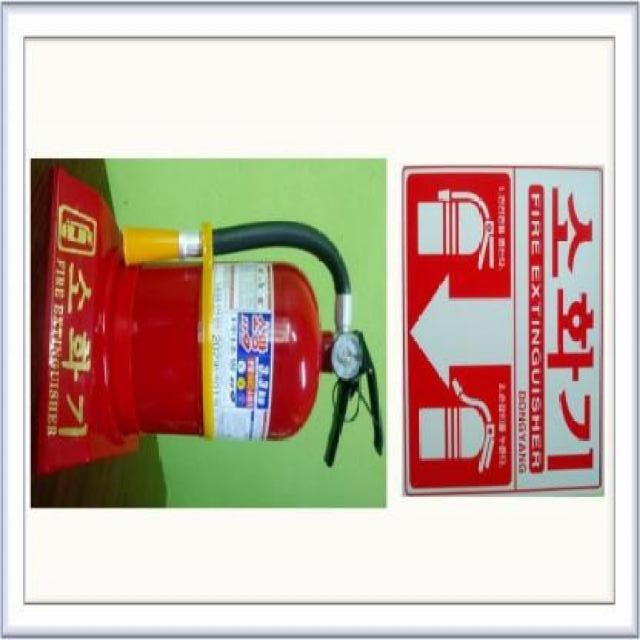fire extinguisher: (110, 218, 384, 470)
